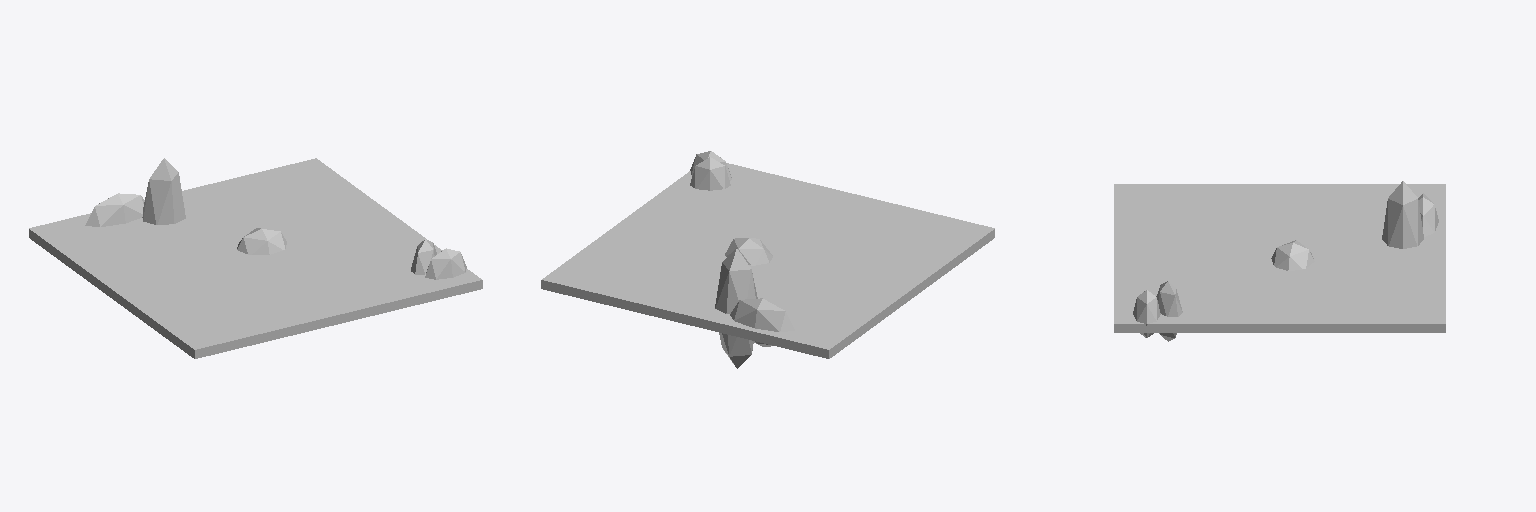
The model's file is Desert.obj.
3 renders of one model, left to right at view 1: azimuth 30°, elevation 25°; view 2: azimuth 150°, elevation 25°; view 3: azimuth 270°, elevation 25°, orthographic.
Parts seen in each view (by area): view 1: Box005, GeoSphere003, GeoSphere002, GeoSphere006, GeoSphere005, GeoSphere004; view 2: Box005, GeoSphere003, GeoSphere002, GeoSphere004, GeoSphere006; view 3: Box005, GeoSphere003, GeoSphere006, GeoSphere004, GeoSphere005, GeoSphere002.
Part boxes in pixels (left/top/right/bottom): Box005: left=29, top=158, right=482, bottom=358; GeoSphere003: left=142, top=158, right=185, bottom=224; GeoSphere002: left=85, top=193, right=144, bottom=226; GeoSphere006: left=237, top=228, right=286, bottom=254; GeoSphere005: left=425, top=248, right=466, bottom=279; GeoSphere004: left=411, top=239, right=436, bottom=274; Box005: left=541, top=163, right=994, bottom=358; GeoSphere003: left=715, top=248, right=757, bottom=368; GeoSphere002: left=730, top=298, right=794, bottom=346; GeoSphere004: left=690, top=157, right=730, bottom=190; GeoSphere006: left=725, top=238, right=772, bottom=265; Box005: left=1114, top=184, right=1445, bottom=332; GeoSphere003: left=1382, top=181, right=1423, bottom=248; GeoSphere006: left=1271, top=240, right=1314, bottom=270; GeoSphere004: left=1156, top=281, right=1182, bottom=341; GeoSphere005: left=1133, top=290, right=1160, bottom=337; GeoSphere002: left=1418, top=193, right=1438, bottom=236.
Size of the model in its own units: 502 by 201 by 500.